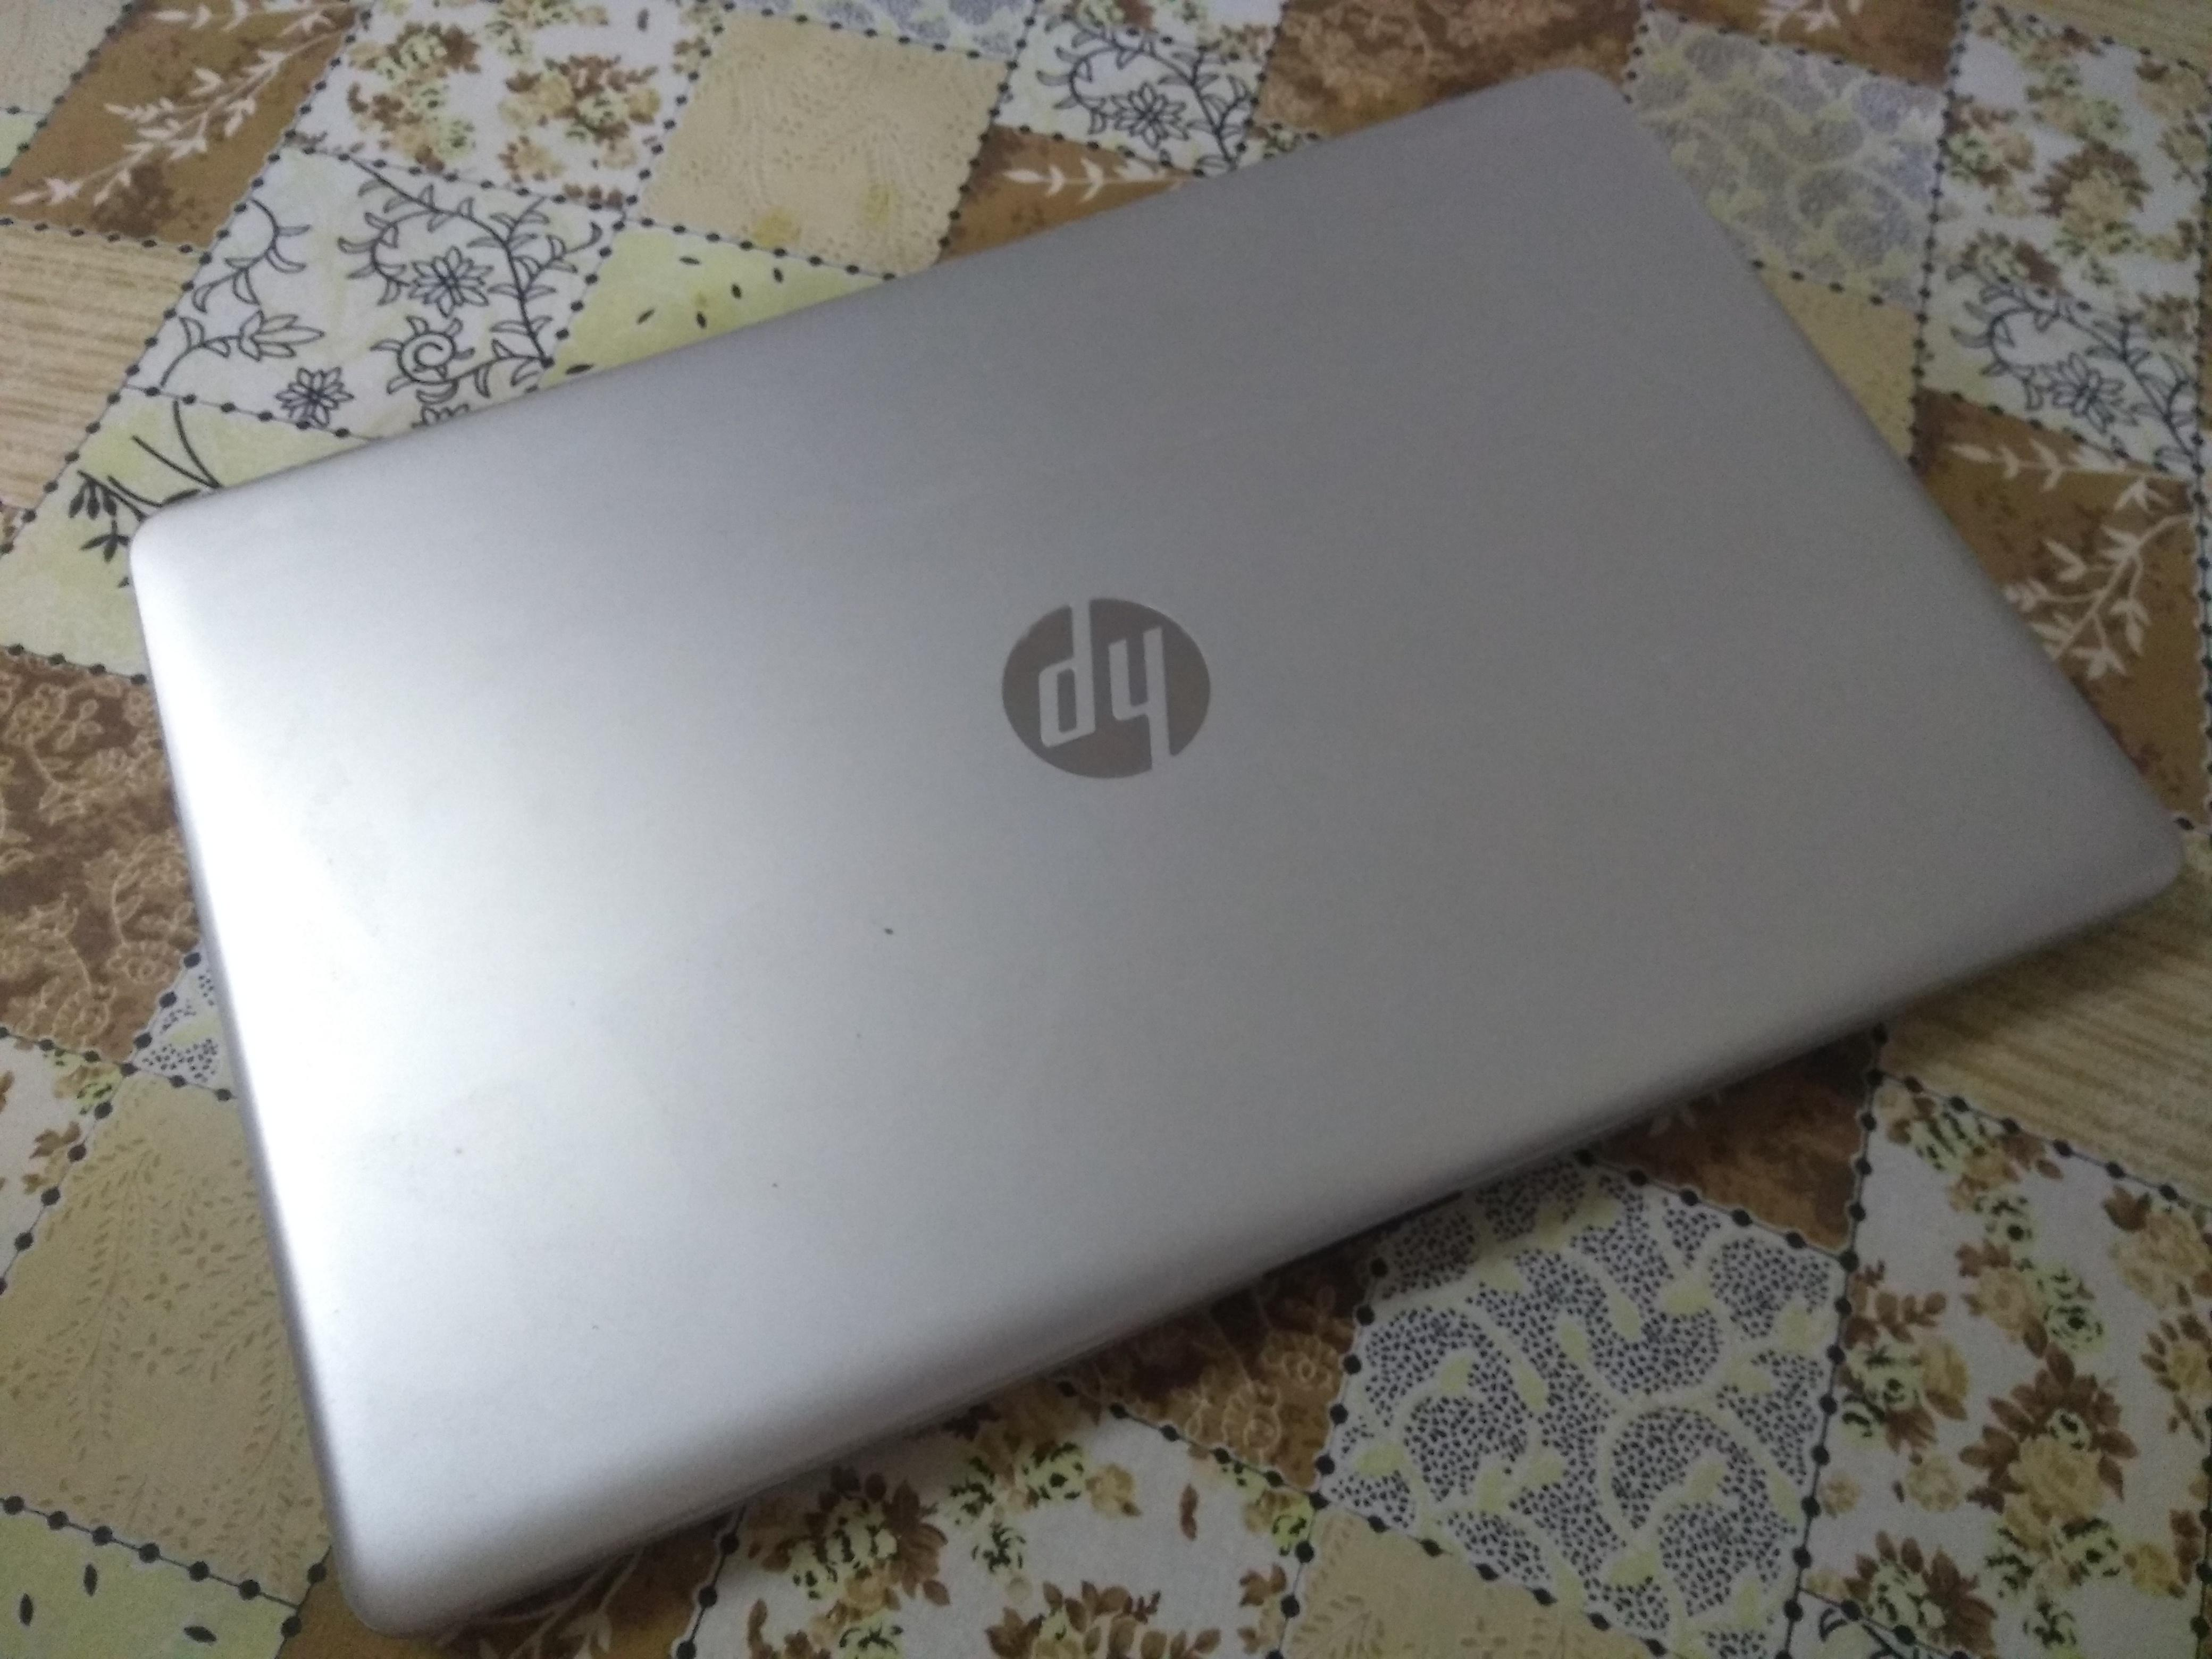laptop: (98, 38, 2188, 1659)
